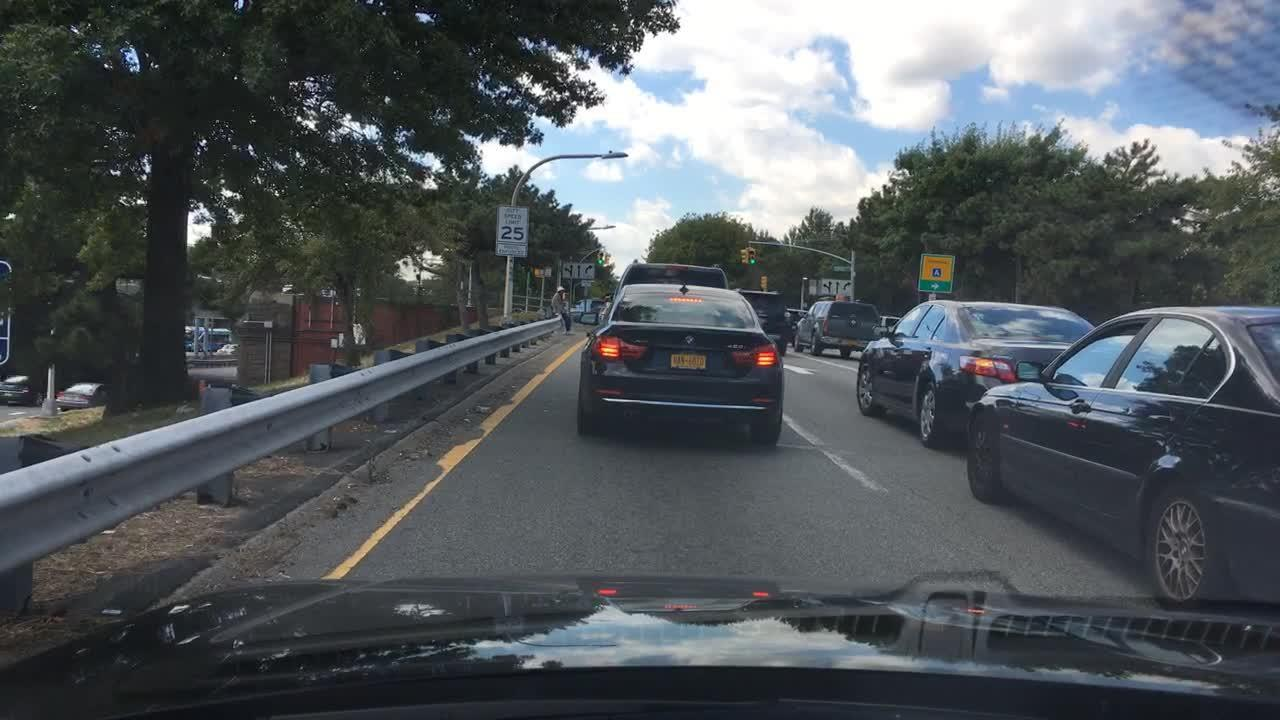bmw: (679, 331, 701, 351)
